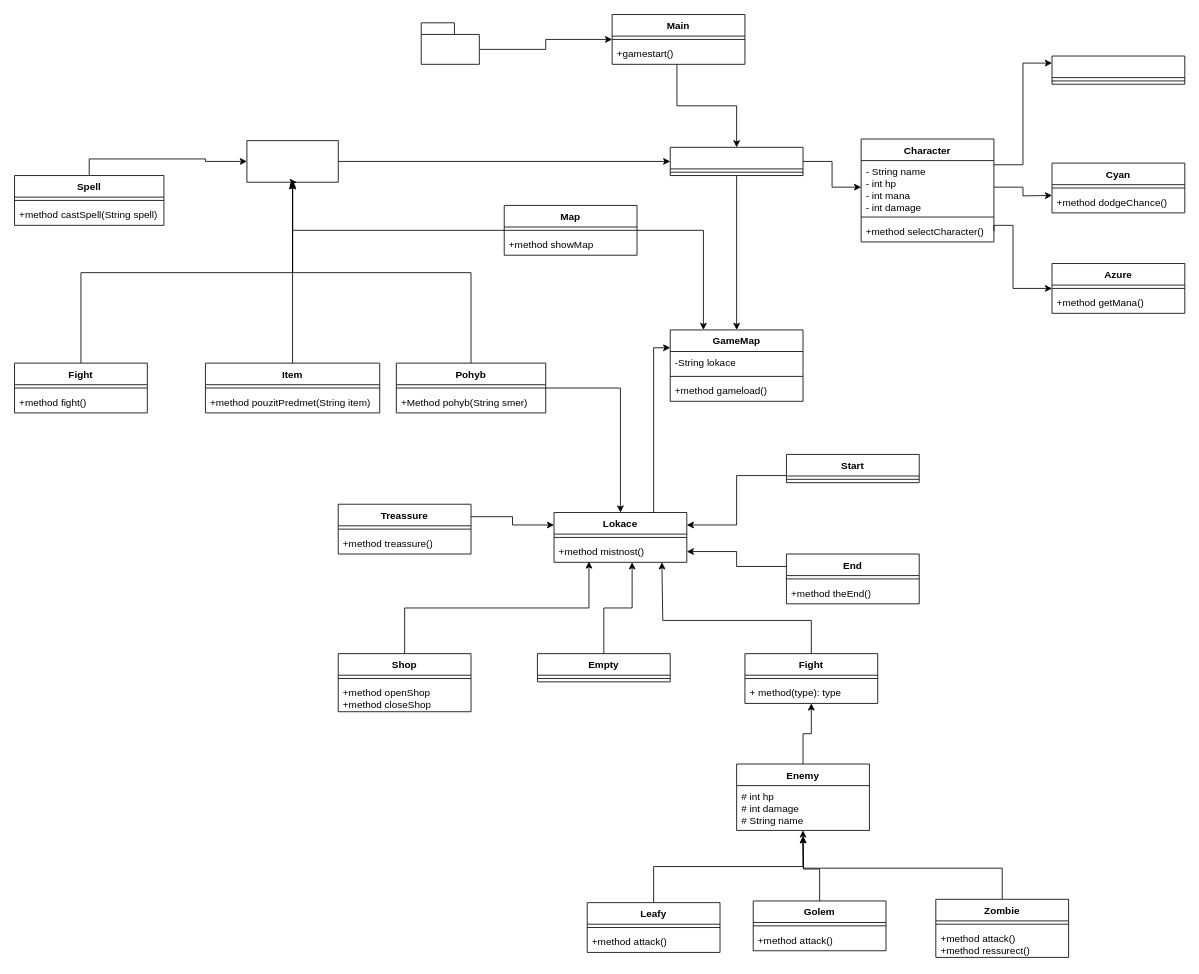
Some shapes in this 1199 by 974 pixel diagram are drawn without their labels. The shapes that lost their labels are listed below. From the top down, each one's centre as x and y in pixels, then its label:
At (449,43): "Scanner".
At (1118,69): "DoomBringer".
At (292,161): "«interface» Command".
At (736,161): "Konzole".
